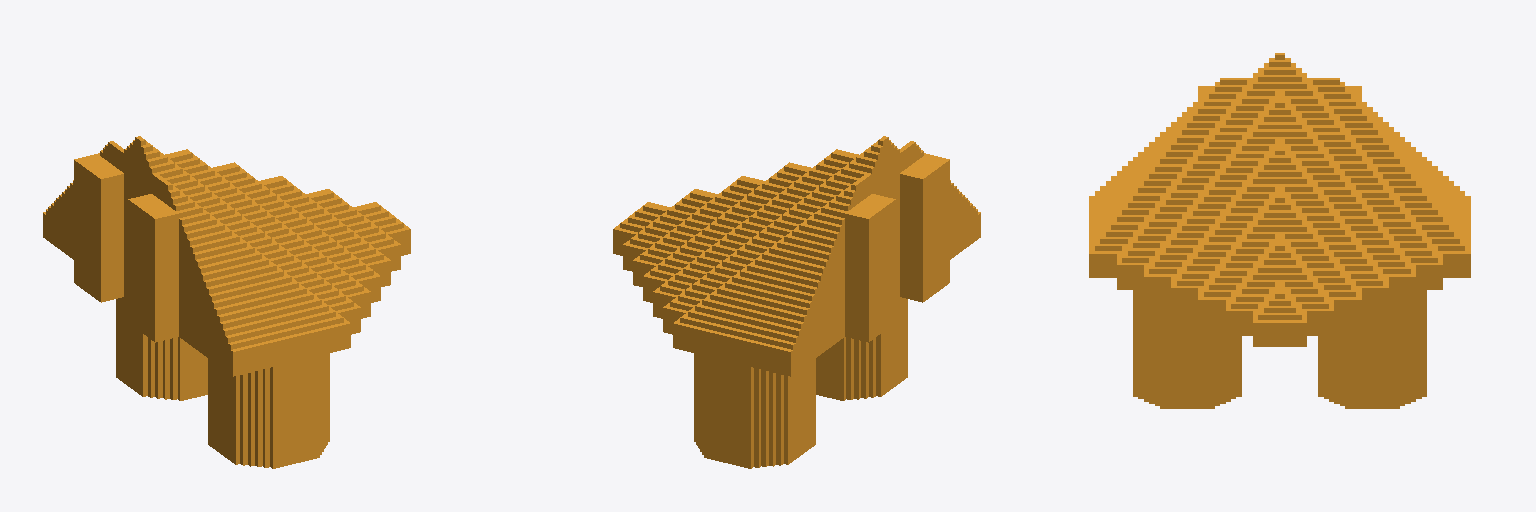
3 views of the same model, side by side, from view 1: azimuth 30°, elevation 25°; view 2: azimuth 150°, elevation 25°; view 3: azimuth 270°, elevation 25° (orthographic).
Parts seen in each view (by area): view 1: object 1; view 2: object 1; view 3: object 1.
Part boxes in pixels (bbox=[...]): object 1: bbox=[43, 136, 410, 468]; object 1: bbox=[613, 136, 980, 468]; object 1: bbox=[1089, 53, 1470, 408].
Size of the model in its own units: 6 by 5.9 by 7.
Materials: 1 (1 with a texture image).